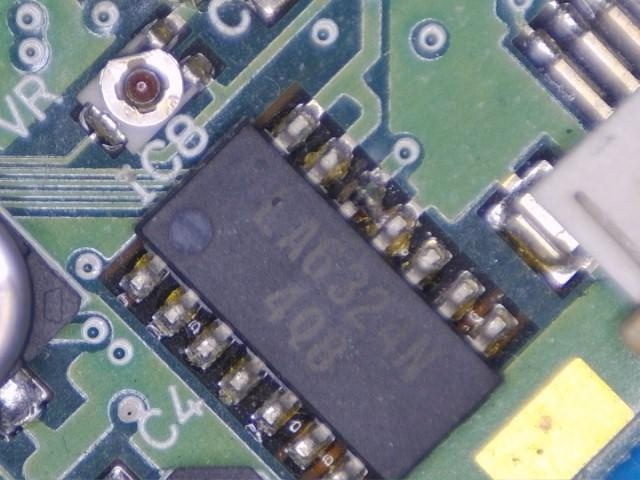pcb_defect: (338, 170, 418, 254)
